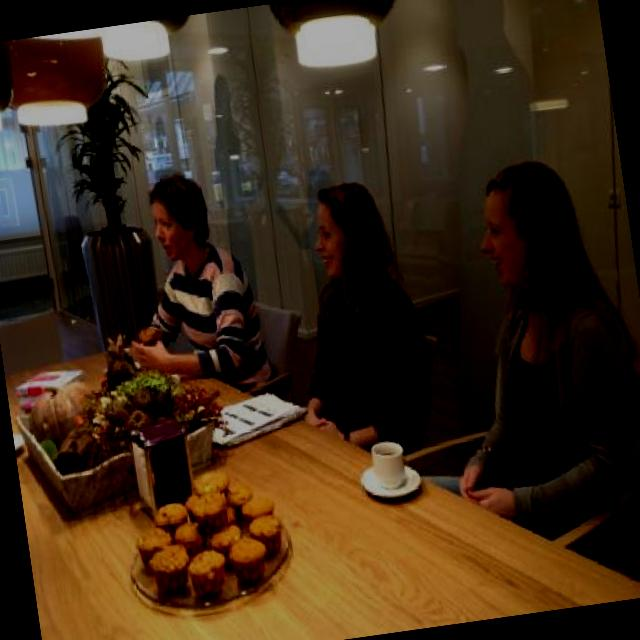Person: (381, 146, 640, 599), (273, 174, 442, 464), (102, 163, 280, 410)
